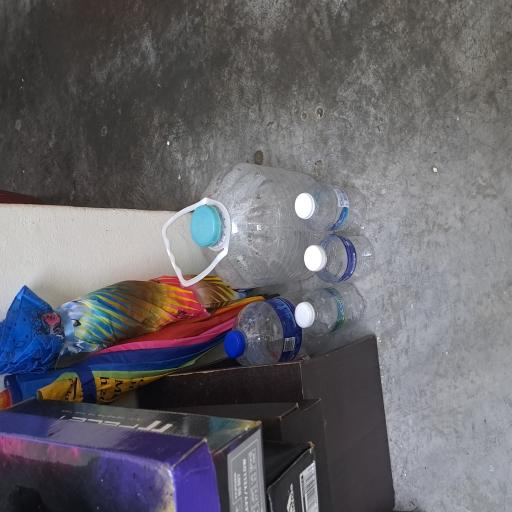plastic bottle: (168, 269, 258, 454), (108, 315, 167, 437), (209, 397, 249, 488), (135, 394, 170, 492), (169, 420, 212, 495)
plastic bottle cap: (199, 252, 230, 296), (179, 400, 203, 438), (138, 390, 160, 425), (218, 390, 242, 422), (116, 296, 136, 326)
